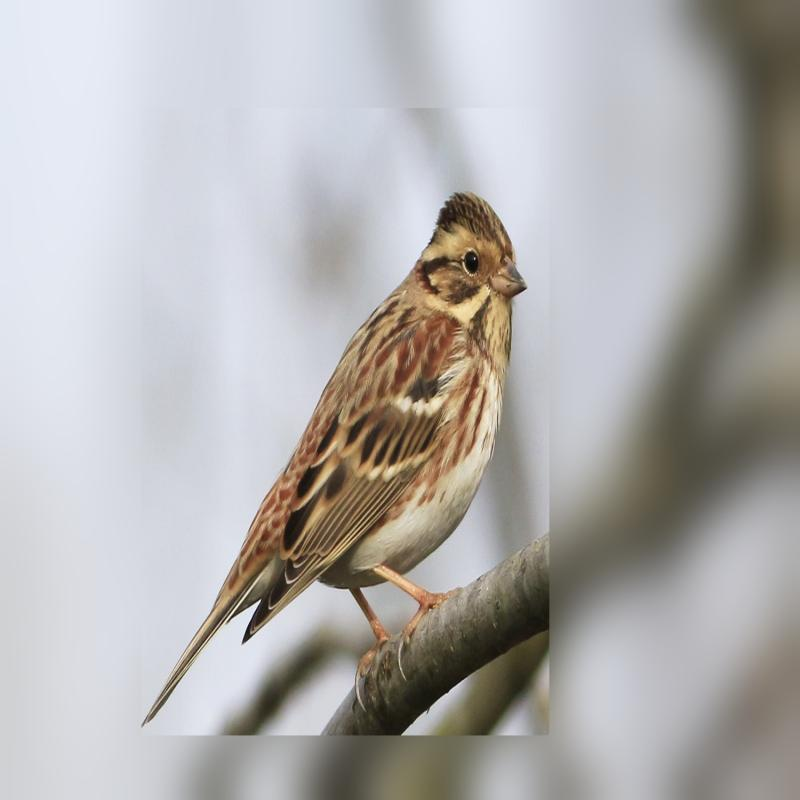rustic bunting: (138, 189, 529, 729)
